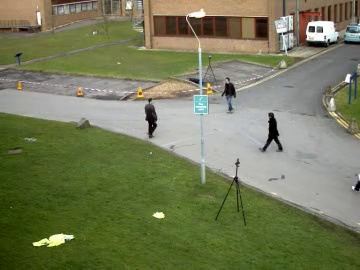person: (263, 111, 282, 153), (142, 98, 158, 140), (222, 77, 237, 112)
